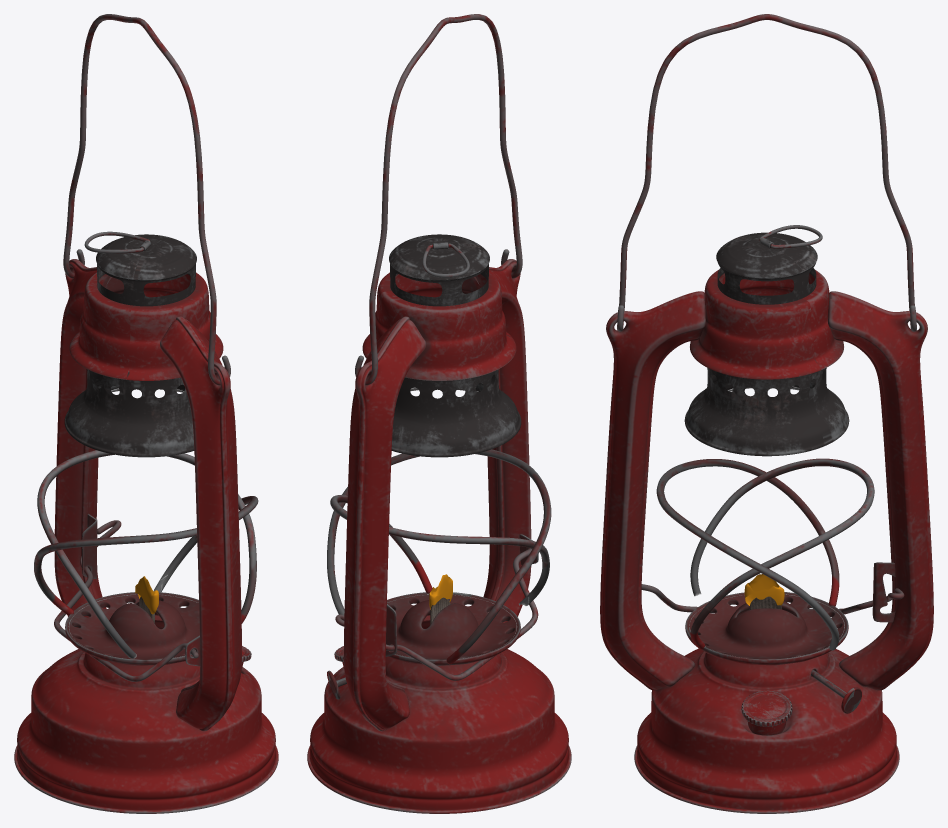
File: Oil_Lamp.fbx
The picture shows the model from 3 angles, left to right: view 1: azimuth 30°, elevation 25°; view 2: azimuth 150°, elevation 25°; view 3: azimuth 270°, elevation 25°; orthographic projection.
Parts seen in each view (by area): view 1: OilLampBase, Top, Flame; view 2: OilLampBase, Top, Flame; view 3: OilLampBase, Top, OilCap, Flame.
Part boxes in pixels (x1,y1,x2,y2): OilLampBase: (14, 14, 278, 813); Top: (64, 234, 223, 457); Flame: (135, 576, 158, 614); OilLampBase: (307, 14, 571, 813); Top: (362, 234, 521, 457); Flame: (429, 574, 452, 609); OilLampBase: (600, 14, 933, 813); Top: (684, 232, 849, 456); OilCap: (741, 690, 792, 735); Flame: (744, 574, 784, 605).
Bounding box in the file's own units: 244 × 753 × 307.
